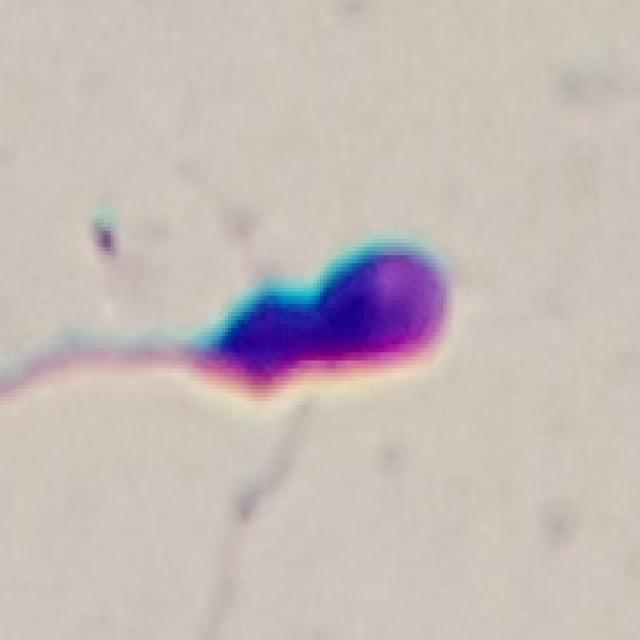abnormal sperm: (68, 235, 461, 422)
